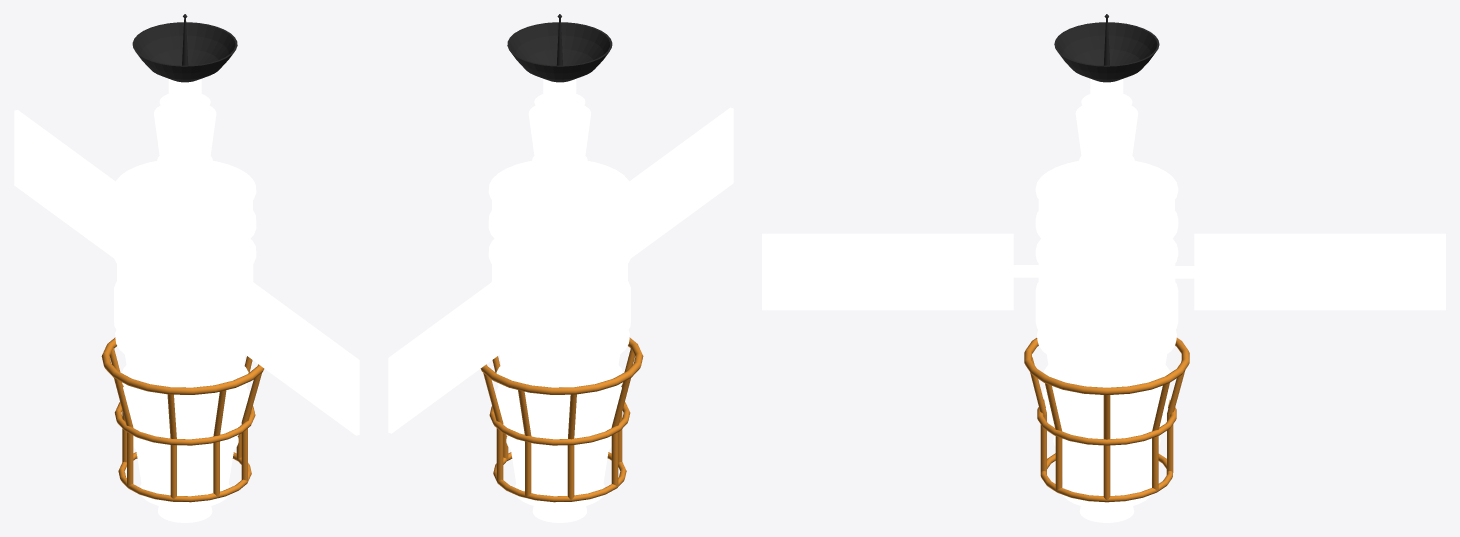
Rendered from Cartosat-3.glb.
The picture shows the model from 3 angles, left to right: view 1: azimuth 30°, elevation 25°; view 2: azimuth 150°, elevation 25°; view 3: azimuth 270°, elevation 25°; orthographic projection.
Parts seen in each view (by area): view 1: Cylinder, Cube, Cube.001, Circle.001, Cylinder.001, Circle; view 2: Cylinder, Cube.001, Cube, Circle.001, Cylinder.001, Circle; view 3: Cylinder, Cube, Cube.001, Circle.001, Cylinder.001, Circle.
Part boxes in pixels (x1,y1,x2,y2): Cylinder: (114,79,256,522); Cube: (217,268,359,435); Cube.001: (14,110,119,258); Circle.001: (132,14,237,82); Cylinder.001: (101,337,264,502); Circle: (109,348,262,498); Cylinder: (488,79,630,522); Cube.001: (388,266,527,433); Cube: (625,107,733,258); Circle.001: (507,14,612,82); Cylinder.001: (480,337,643,502); Circle: (483,347,634,499); Cylinder: (1035,78,1178,522); Cube: (762,233,1038,310); Cube.001: (1175,233,1445,310); Circle.001: (1054,14,1159,82); Cylinder.001: (1024,338,1189,502); Circle: (1030,357,1185,499).
Bounding box in the file's own units: 3.12 × 10.24 × 12.76.
